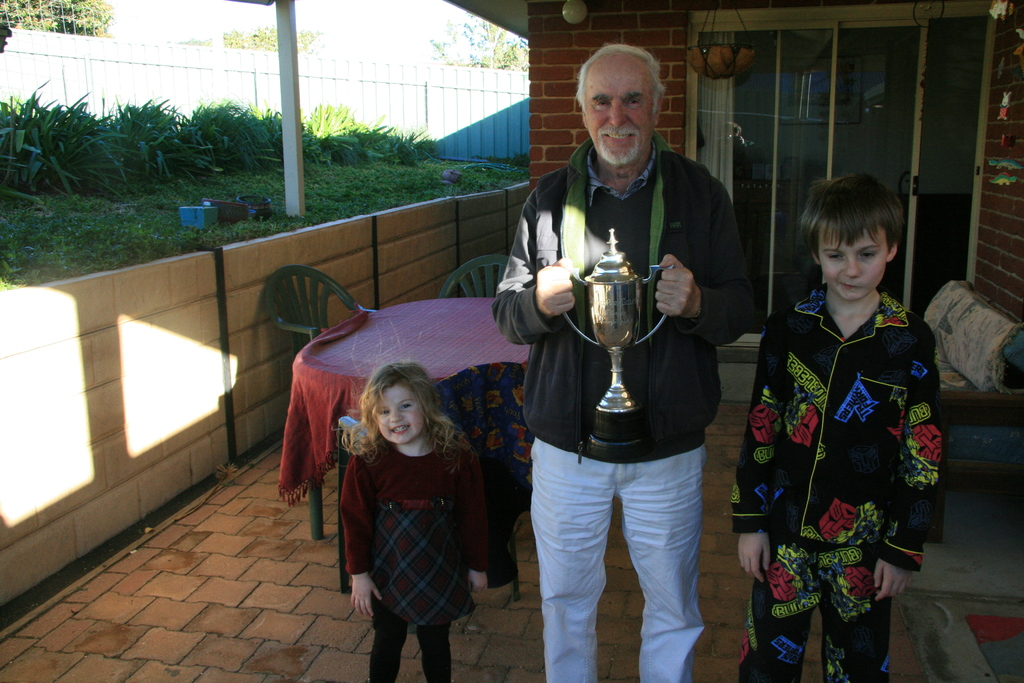Human-face: (585, 67, 655, 167), (819, 230, 885, 299), (378, 386, 428, 439)
